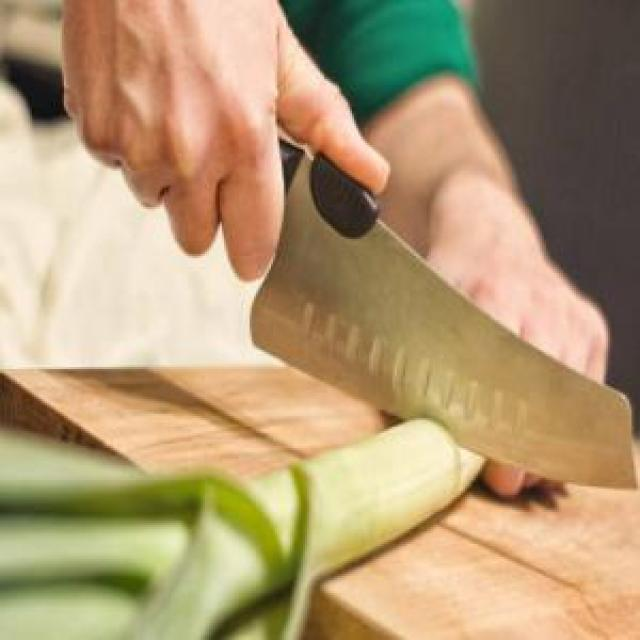knife: (220, 119, 639, 496)
